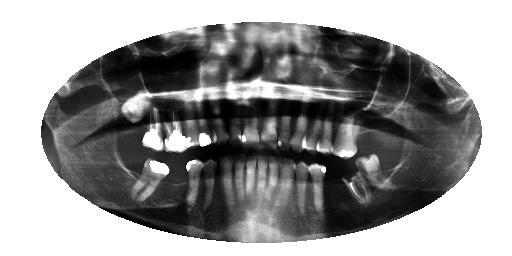i10healthy: (243, 150, 260, 231)
i11healthy: (230, 145, 248, 226)
i12healthy: (216, 147, 237, 222)
i13decay: (197, 155, 220, 225)
i14healthy: (179, 150, 207, 223)
i15loss: (158, 155, 192, 204)
i16healthy: (127, 155, 172, 212)
i17healthy: (274, 149, 298, 229)
i1loss: (376, 140, 411, 187)
i2healthy: (349, 148, 404, 198)
i3chipped: (338, 160, 377, 214)
i4loss: (318, 161, 352, 213)
i5healthy: (303, 153, 331, 232)
i6decay: (288, 151, 313, 229)
i8healthy: (265, 150, 283, 219)
i9healthy: (251, 149, 272, 226)
u10healthy: (201, 81, 231, 151)
u11healthy: (188, 85, 221, 153)
u13healthy: (178, 88, 205, 153)
u14healthy: (157, 97, 191, 158)
u15healthy: (137, 91, 167, 158)
u16healthy: (116, 77, 160, 134)
u1healthy: (347, 98, 389, 145)
u2healthy: (328, 105, 364, 164)
u3healthy: (313, 109, 337, 160)
u4healthy: (299, 106, 326, 156)
u5healthy: (285, 107, 310, 156)
u6healthy: (274, 101, 294, 155)
u7chipped: (253, 91, 280, 154)
u8healthy: (236, 92, 263, 154)
u9healthy: (223, 94, 246, 154)
